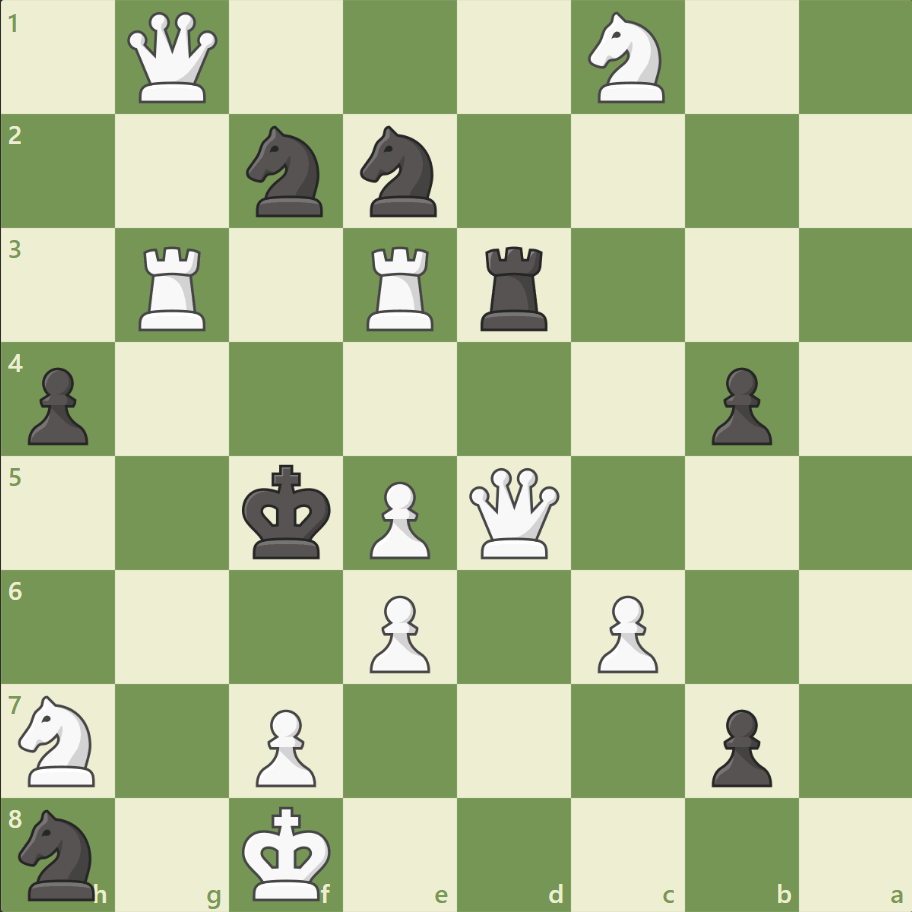K: (238, 798, 338, 906)
N: (11, 688, 108, 791), (579, 7, 676, 110)
P: (247, 700, 322, 791), (588, 586, 662, 677), (361, 586, 435, 677), (361, 473, 435, 564)
Q: (464, 463, 563, 562), (124, 9, 223, 108)
R: (360, 239, 442, 336), (133, 239, 215, 336)
k: (238, 458, 338, 566)
n: (351, 121, 449, 223), (11, 802, 108, 904), (238, 121, 335, 223)
p: (701, 700, 776, 791), (701, 359, 776, 450), (20, 359, 95, 450)
r: (473, 239, 556, 336)
